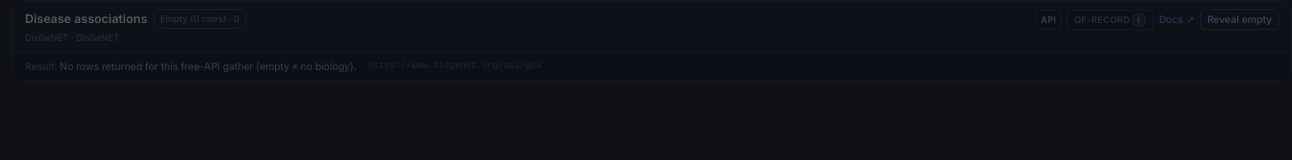
SourceEvidenceCard › reveals empty body on click
Click the button with test id "dis-reveal": {"x": 1240, "y": 20} [1200,9,1279,30]
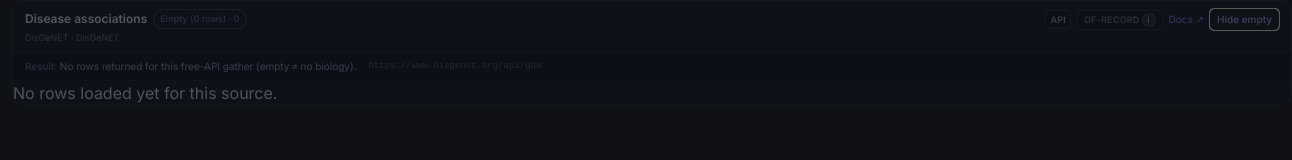
Now the element with test id "dis-body" shows "No rows loaded", box [13,83,278,103]
